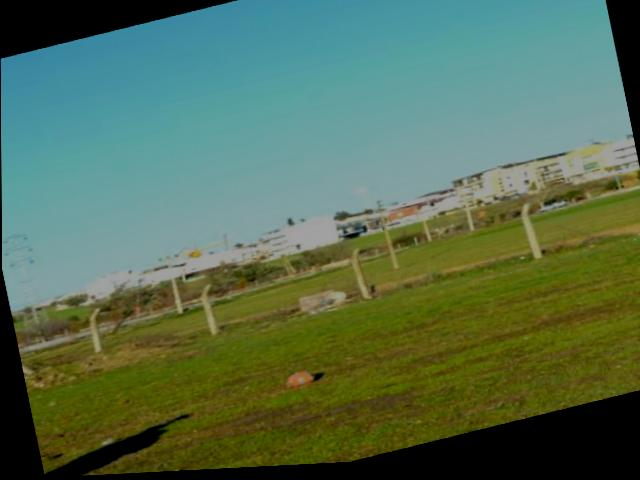iha: (146, 237, 236, 270)
